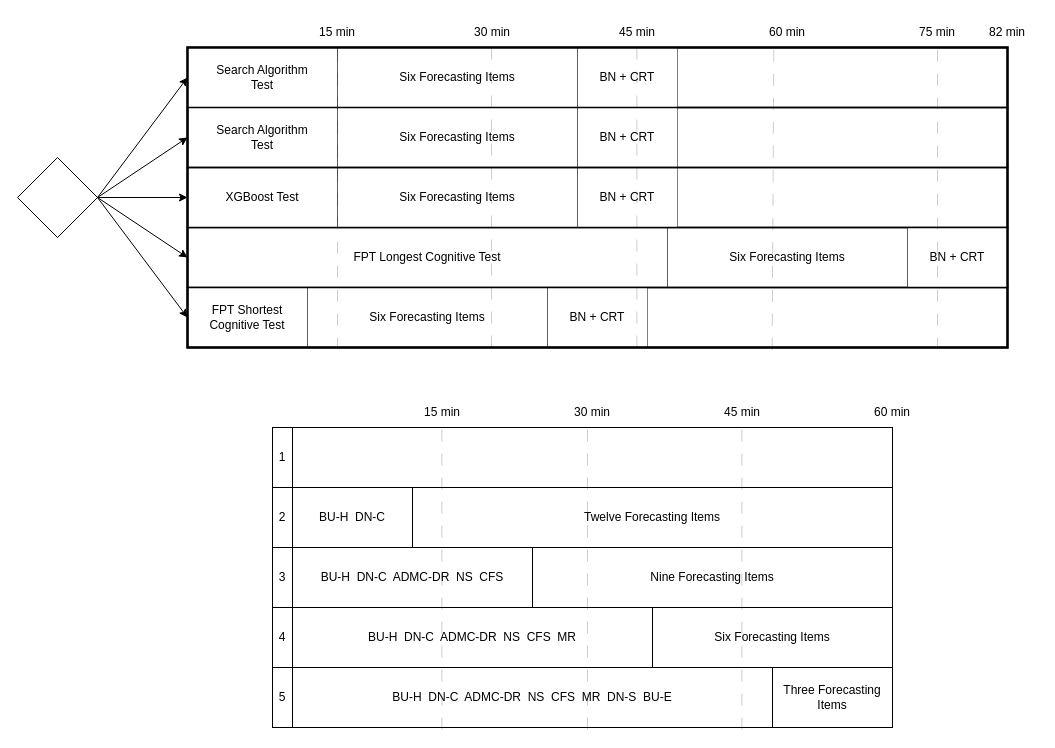
This 1055x748 diagram has some shape labels left out. The box of each missing label's shape, as (x1, y1, x2, y2) in pixels:
Fifteen Forecasting Items: (292, 426, 892, 488)
Prolific: (16, 156, 98, 238)
